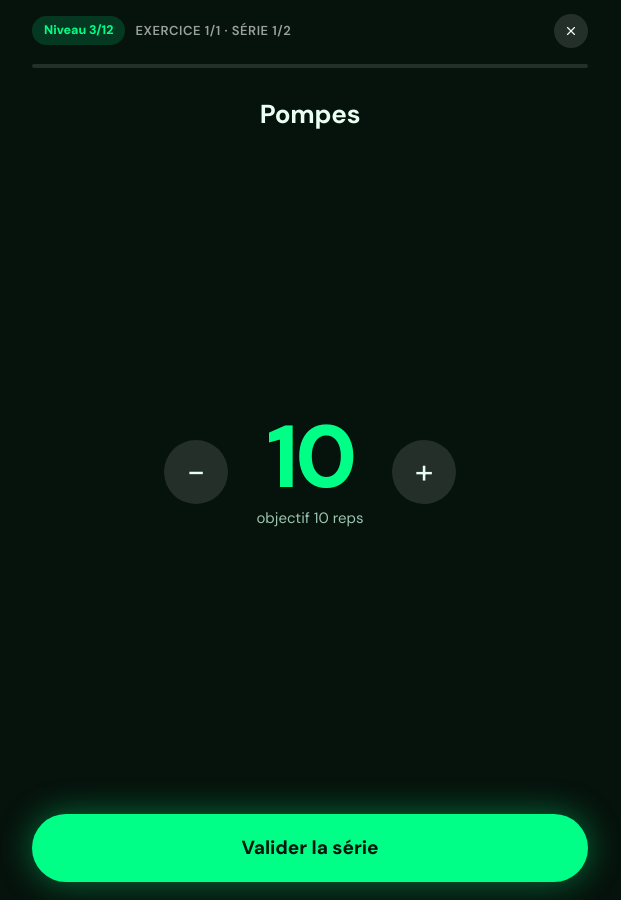
repos › s intercale entre deux series et annonce la suivante
Click the button "Valider la série" at [310, 848], box [32,814,588,882]
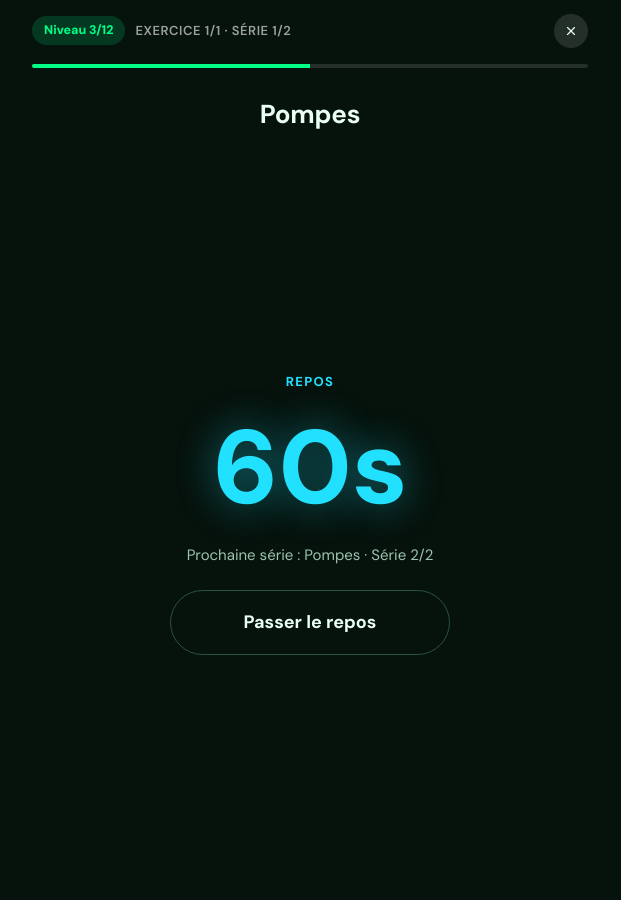
Expected: the text "Repos" is shown, [286,372,334,392]
Expected: the text "Prochaine série : Pompes · Série 2/2" is shown, [187,544,433,566]
